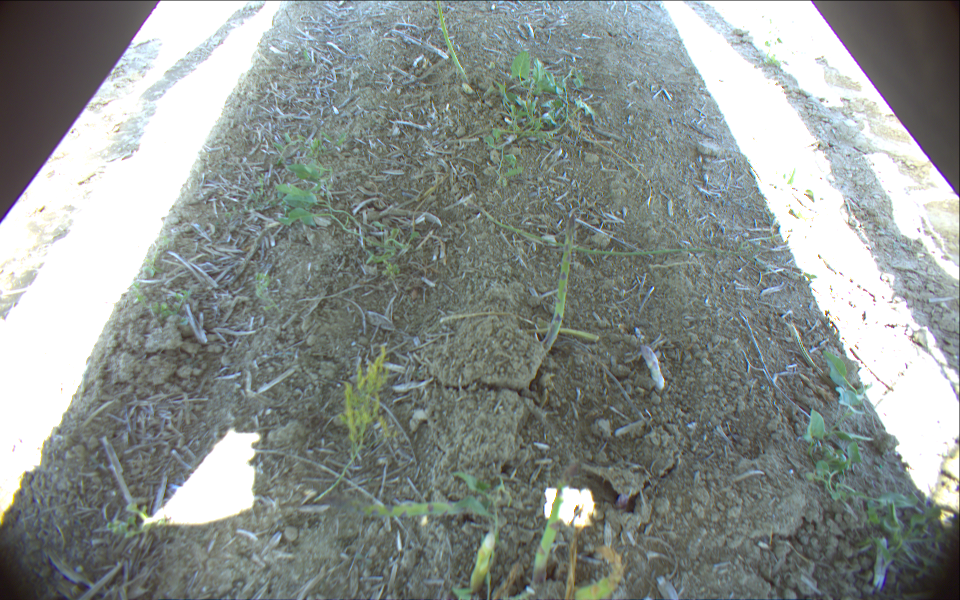aspa: (536, 212, 578, 362), (532, 476, 564, 600), (433, 1, 472, 88)
